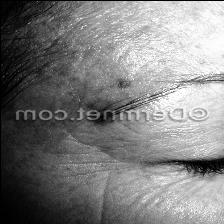Potentially Malignant Skin Tumors: (52, 76, 137, 108)
